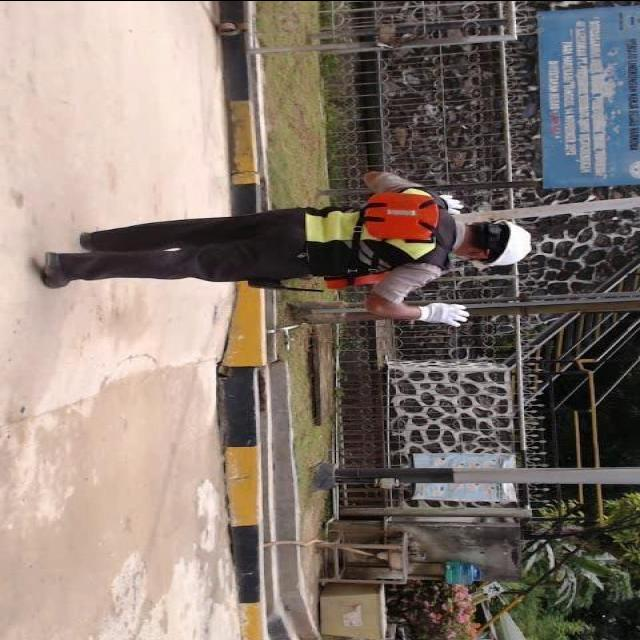helmet: (478, 220, 539, 276)
